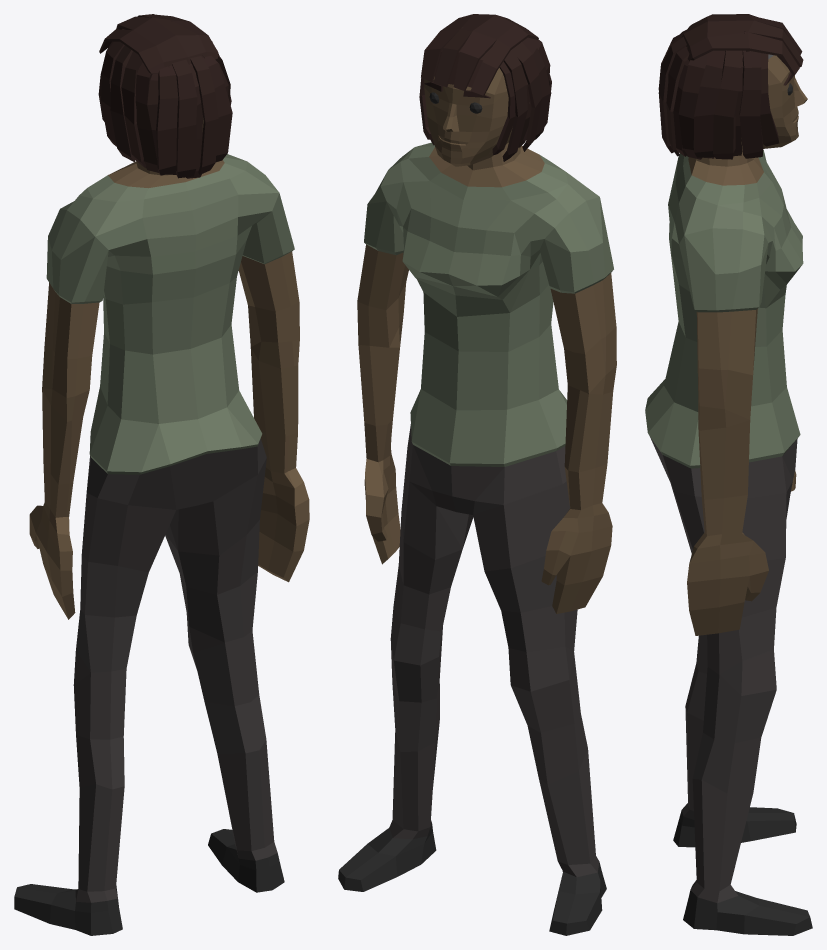
File: Female_Casual.glb
3 views of the same model, side by side, from view 1: azimuth 30°, elevation 25°; view 2: azimuth 150°, elevation 25°; view 3: azimuth 270°, elevation 25° (orthographic).
Parts seen in each view (by area): view 1: Female_Casual; view 2: Female_Casual; view 3: Female_Casual.
Part boxes in pixels (x1=…): Female_Casual: x1=14, y1=14, x2=309, y2=935; Female_Casual: x1=338, y1=14, x2=616, y2=935; Female_Casual: x1=645, y1=14, x2=812, y2=935.
Size of the model in its own units: 1.41 by 4.64 by 0.8189.
